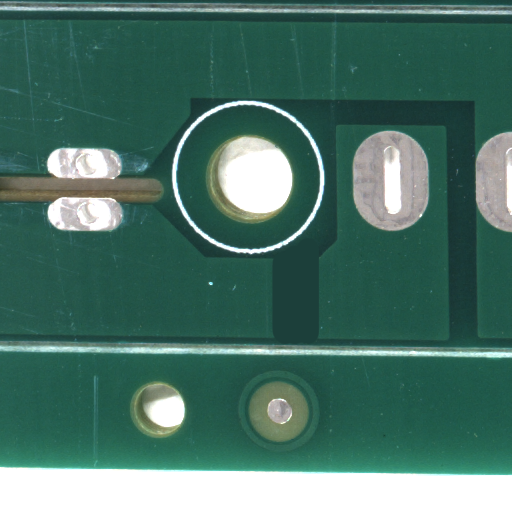Open_circuit: (296, 297, 350, 384)
